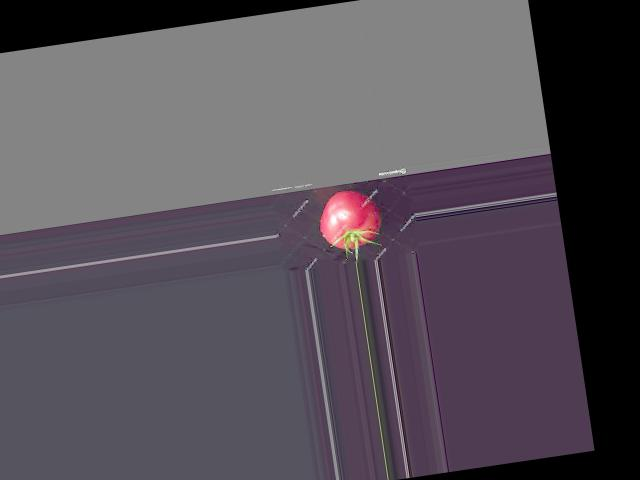tomato: (315, 186, 383, 252)
